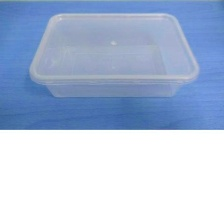plastic_box: (21, 5, 205, 104)
